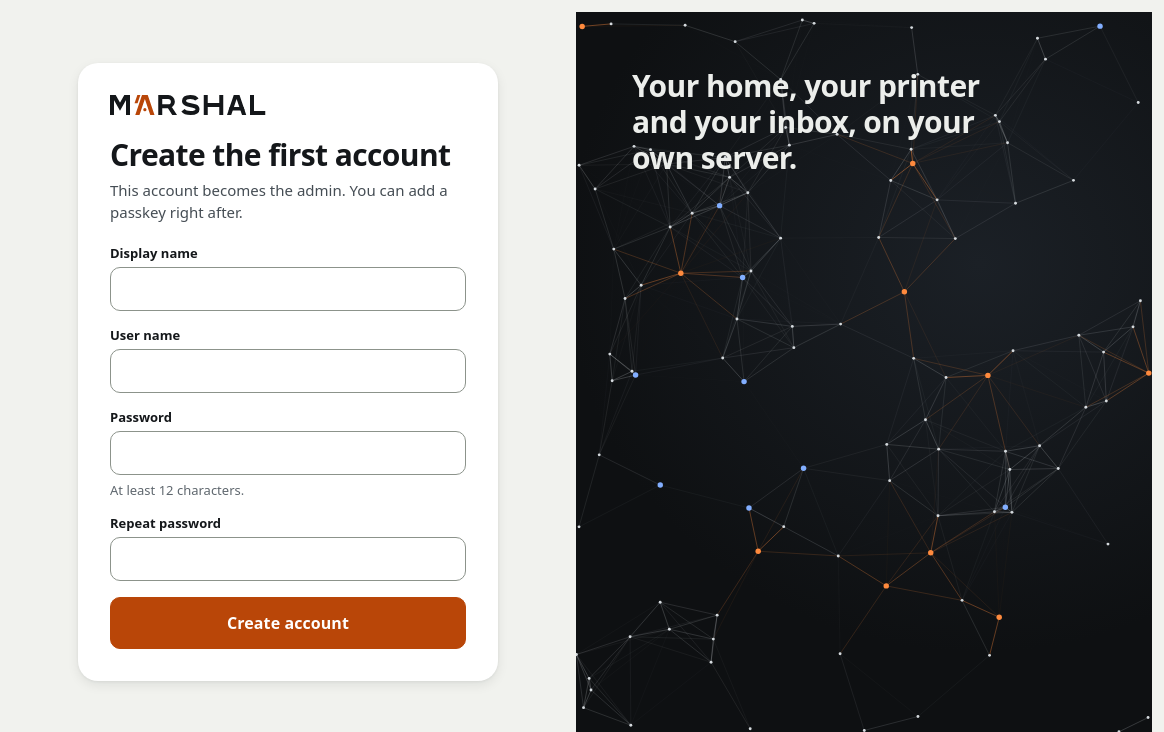
Test: SetupPage › shows why the server rejected the setup
Type "lukas" into the field named "userName" at x=288, y=371, box 110,349 -> 466,393
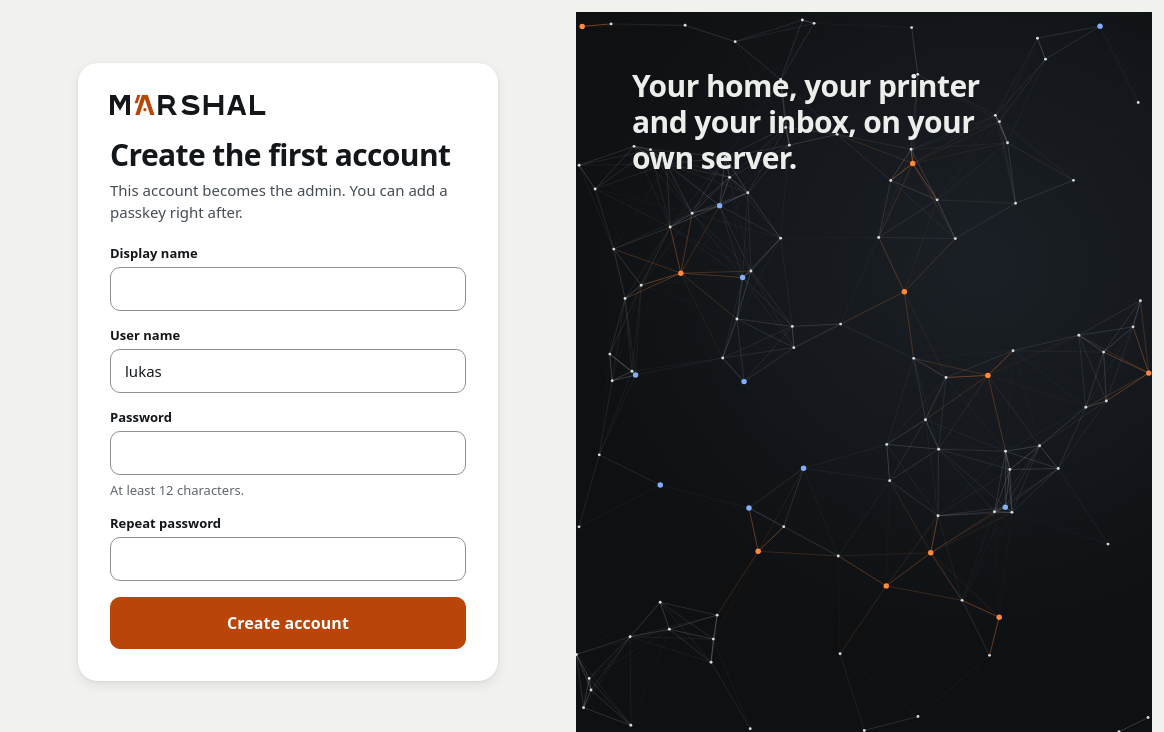
Type "short" into the password field named "password" at x=288, y=453, box 110,431 -> 466,475
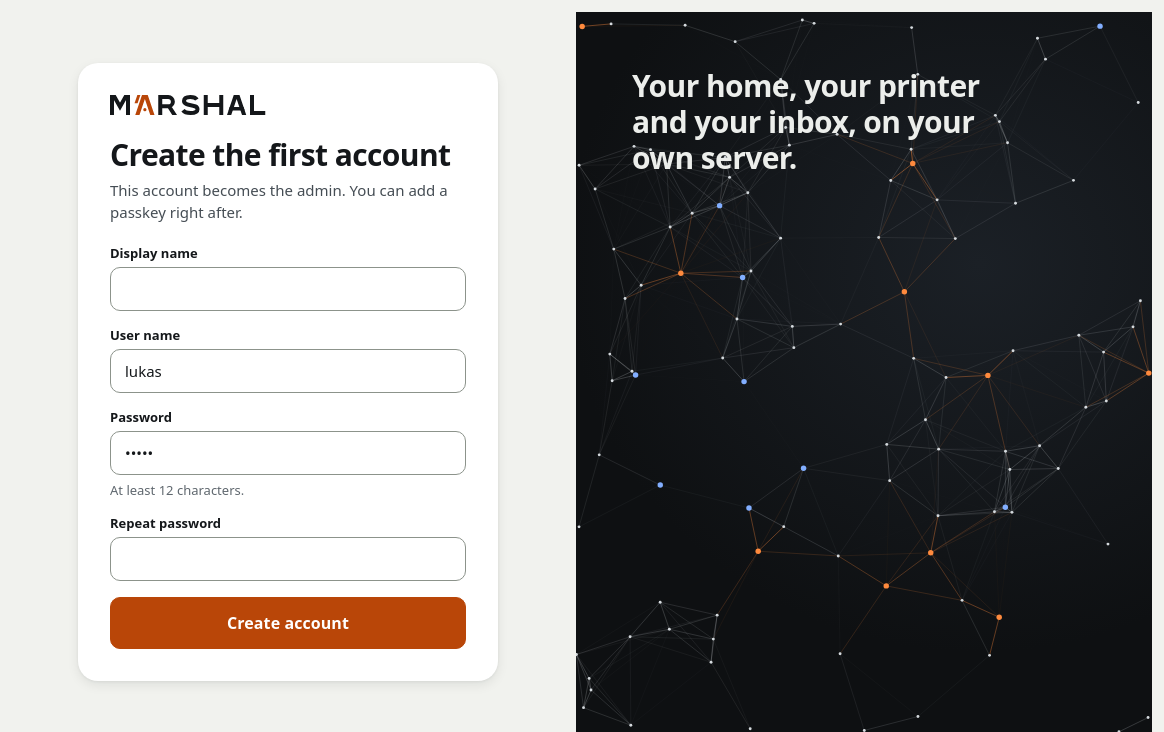
Type "short" into the password field named "repeat" at x=288, y=559, box 110,537 -> 466,581
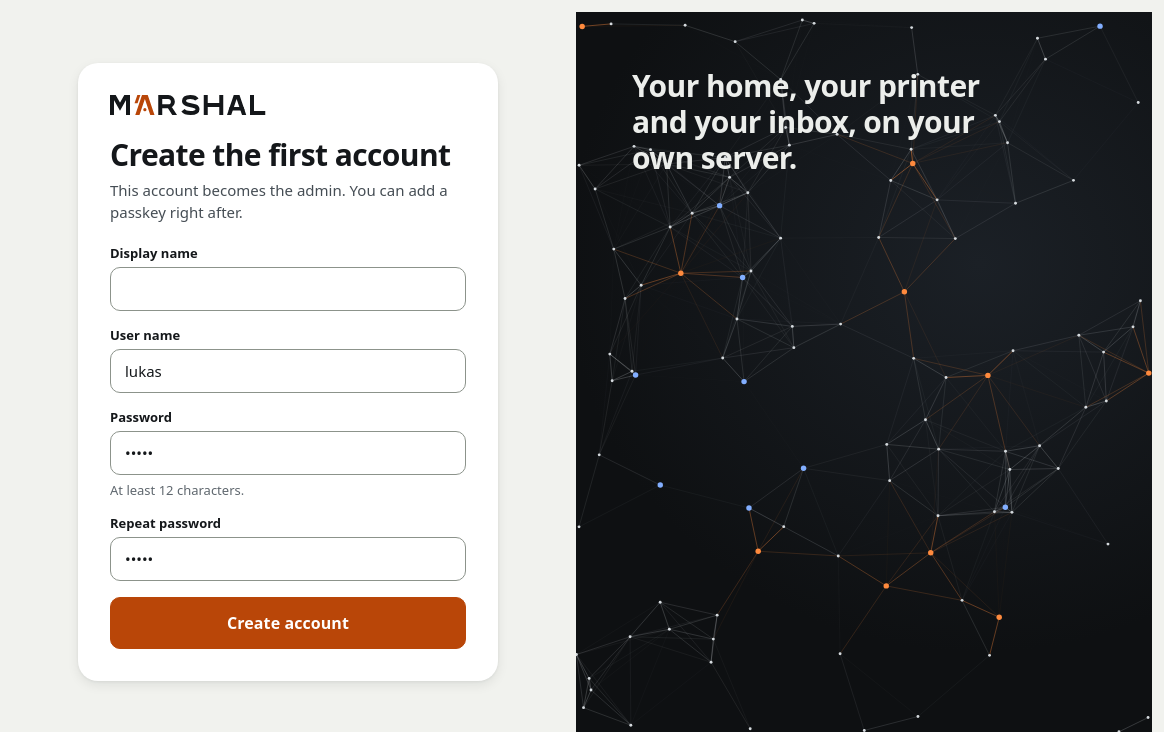
Submit the form, box 110,245 -> 466,649
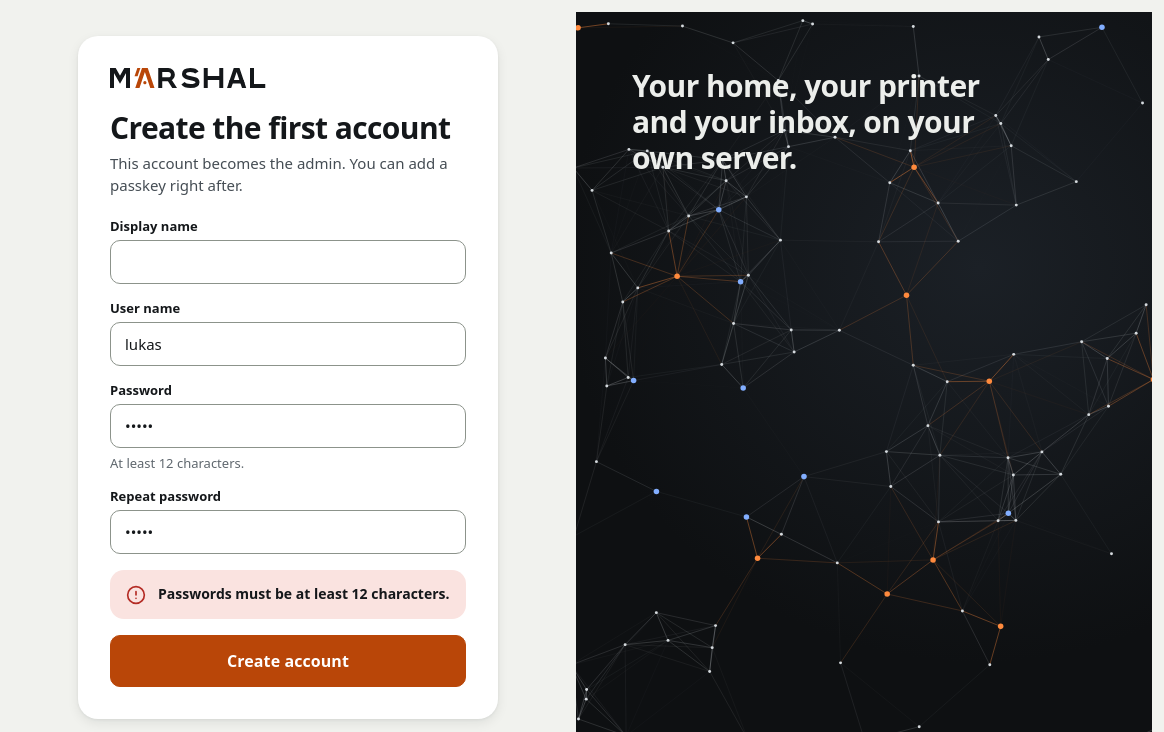
Check: the message "Passwords must be at least 12 characters." is shown, box 110,570 -> 466,619
